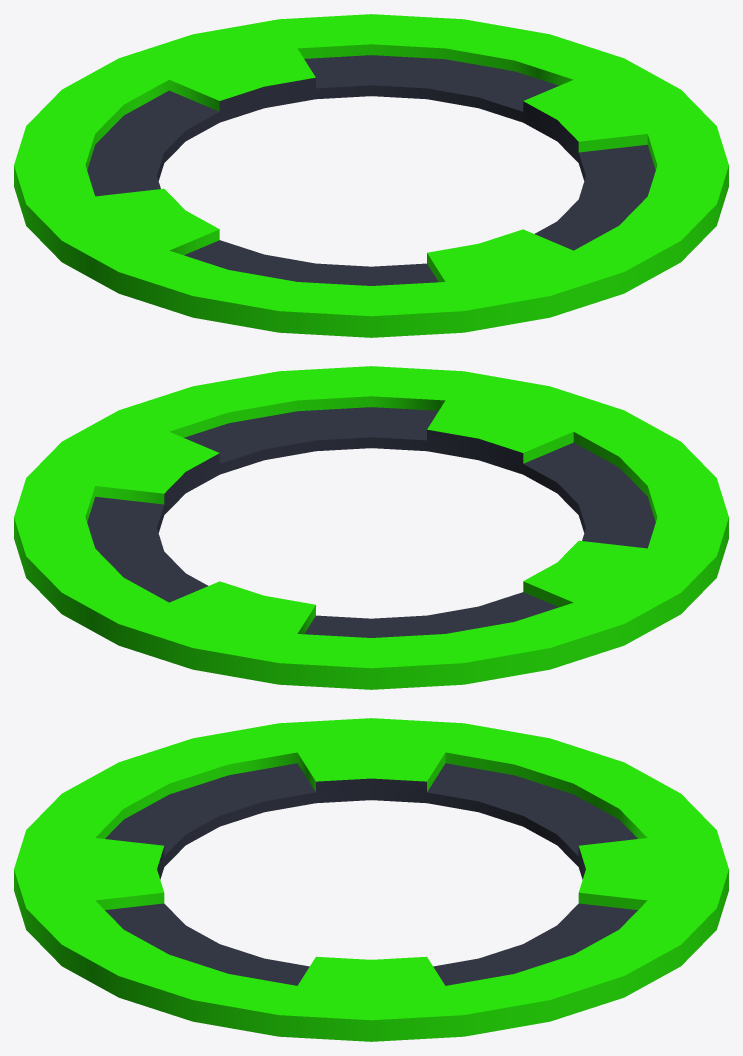
Rendered from selection_indicator.fbx.
3 views of the same model, one above another, from view 1: azimuth 30°, elevation 25°; view 2: azimuth 150°, elevation 25°; view 3: azimuth 270°, elevation 25° (orthographic).
Visible parts, largest first — view 1: mergedBlocks; view 2: mergedBlocks; view 3: mergedBlocks.
Boxes of the visible parts, x1=… form: mergedBlocks: x1=14, y1=14, x2=728, y2=337; mergedBlocks: x1=14, y1=366, x2=728, y2=689; mergedBlocks: x1=14, y1=718, x2=728, y2=1041.
Bounding box in the file's own units: 30 × 1 × 30.
